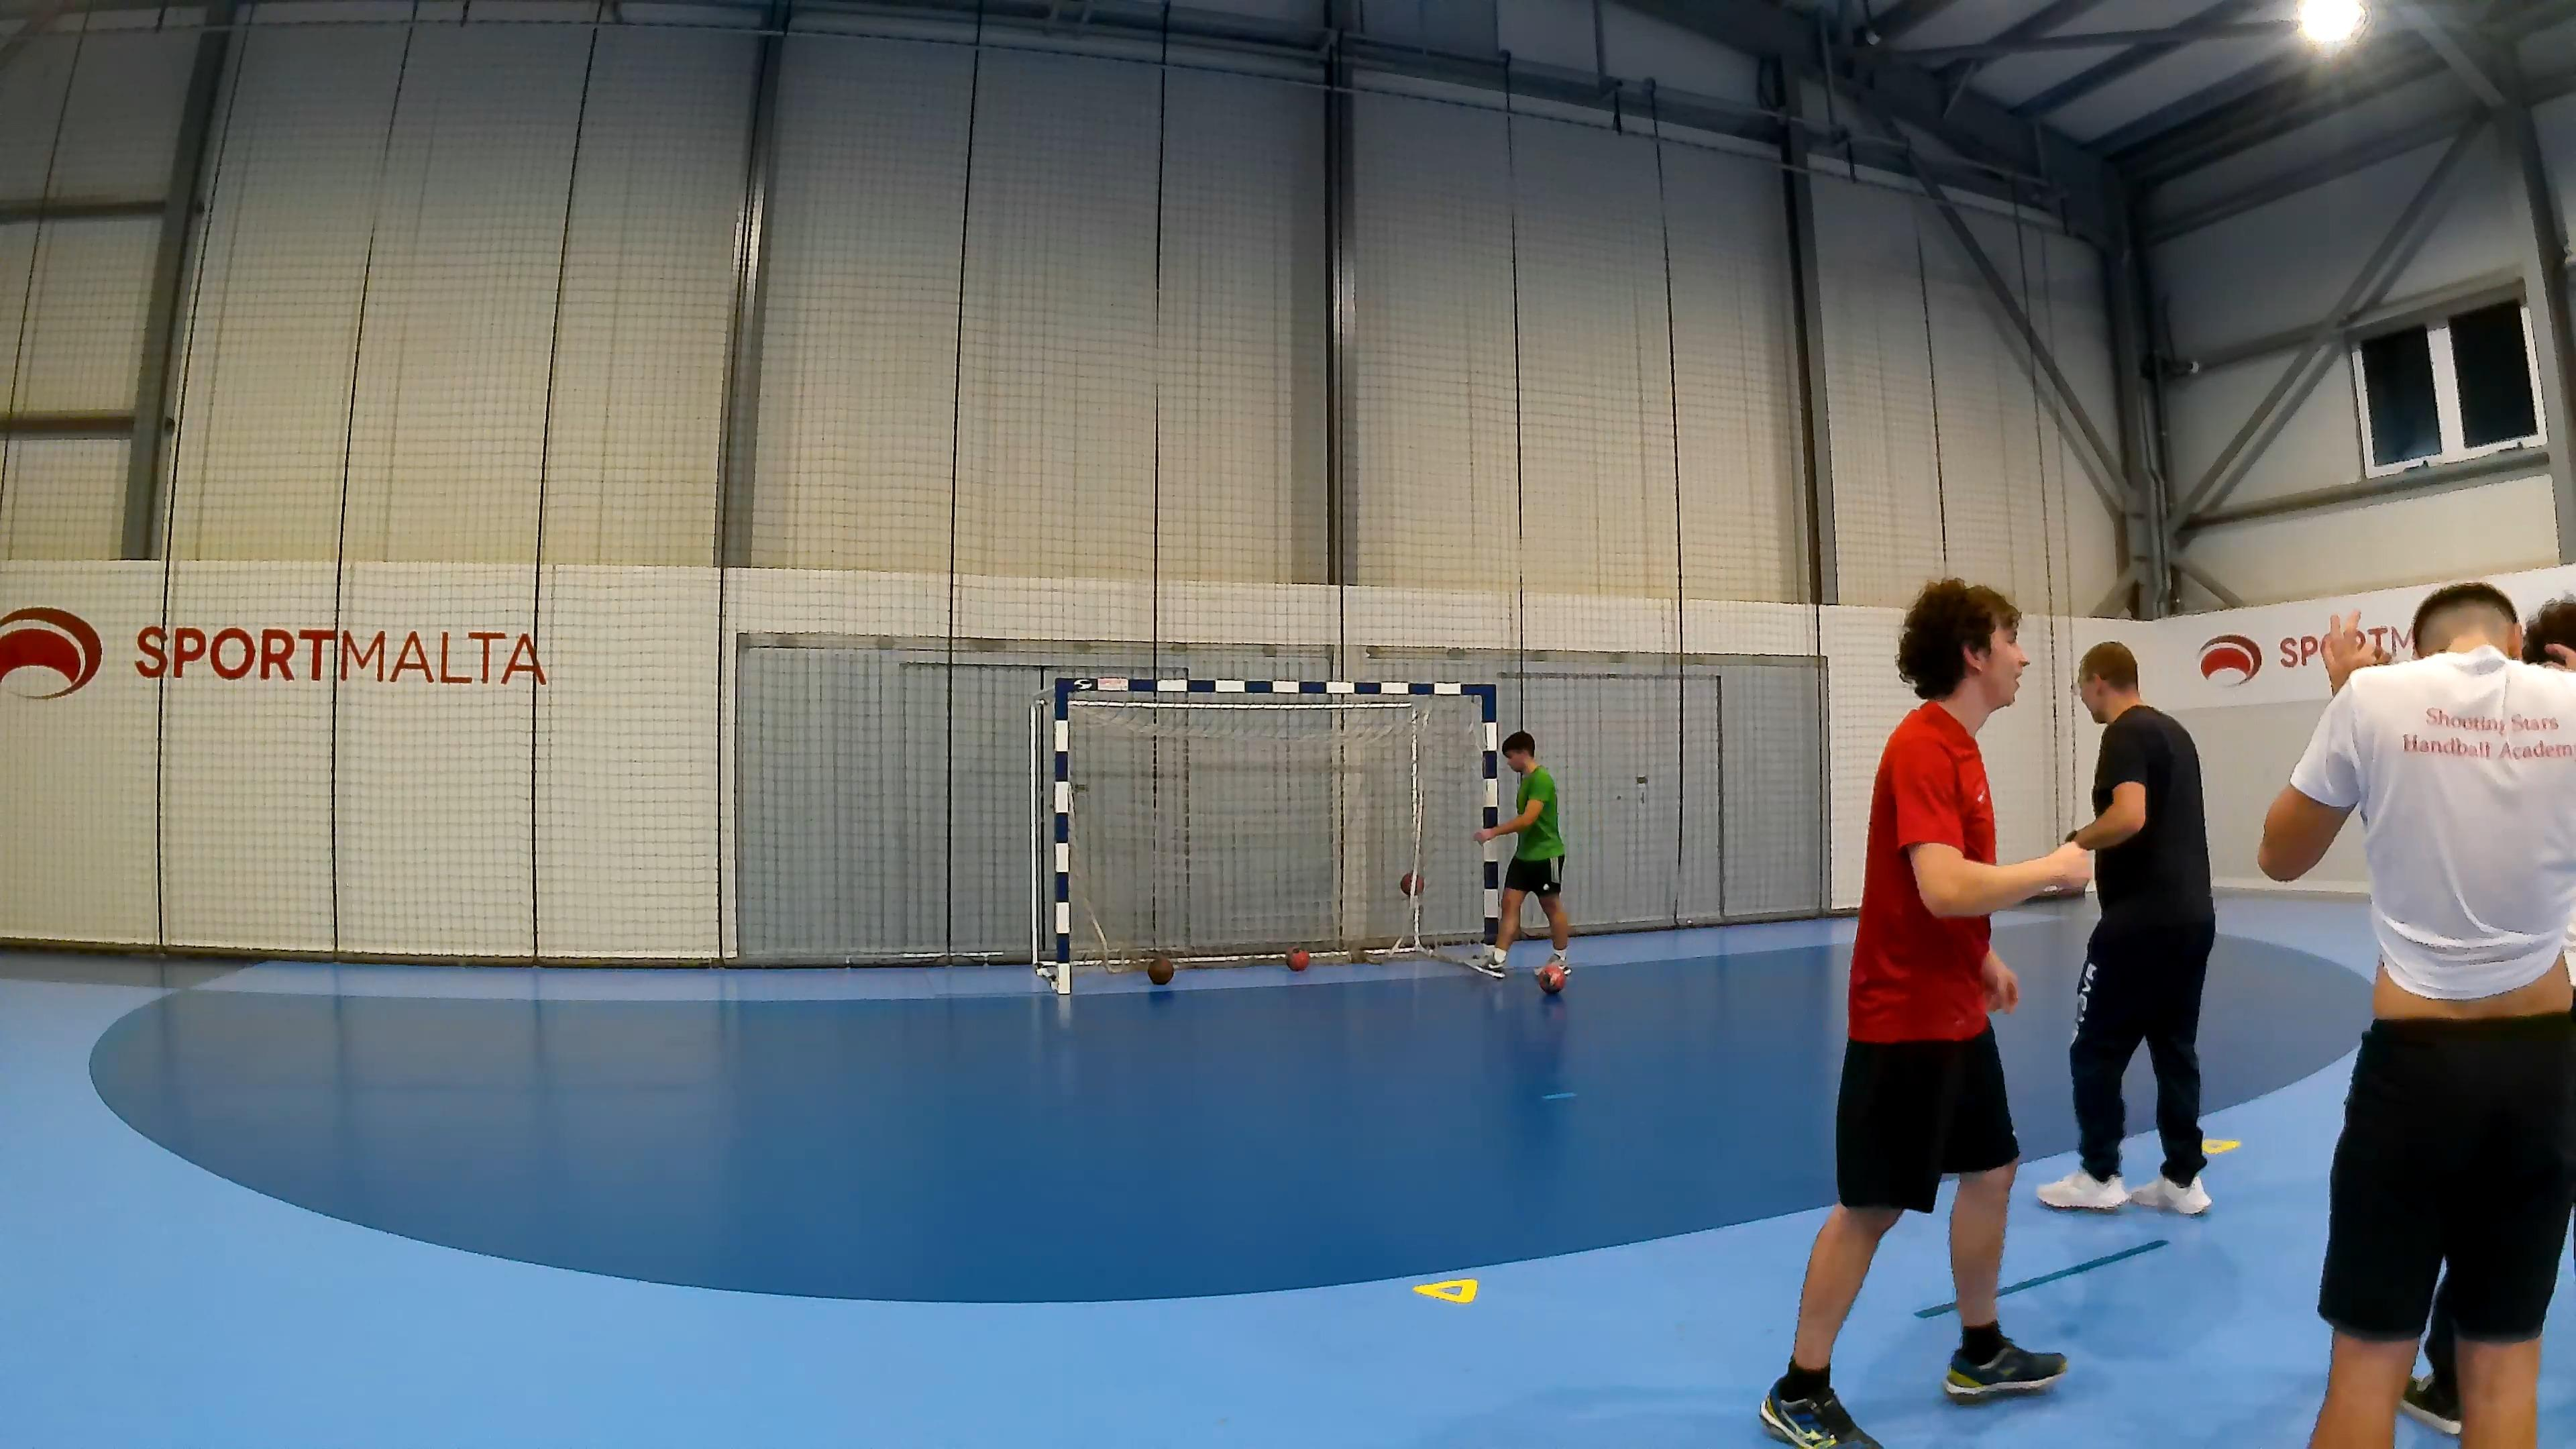handball: (1537, 961, 1569, 996), (1146, 954, 1175, 985), (1284, 947, 1309, 971)
